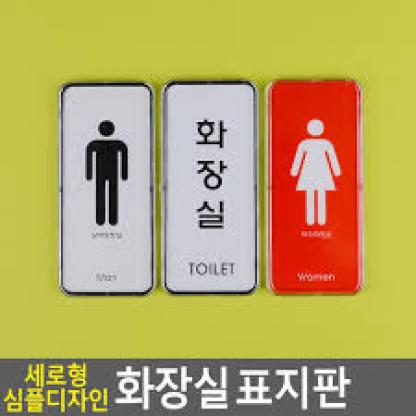toilet: (80, 117, 135, 230), (291, 120, 345, 228)
